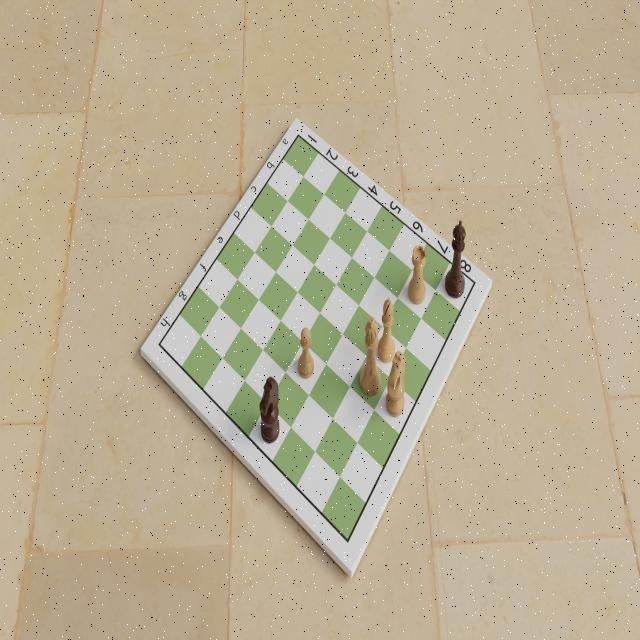black-king: (443, 219, 468, 301)
black-knight: (258, 373, 281, 445)
white-bishop: (376, 295, 396, 365)
white-king: (358, 314, 382, 399)
white-knight: (385, 350, 407, 418)
white-pawn: (296, 325, 316, 380)
white-rook: (407, 242, 428, 305)
